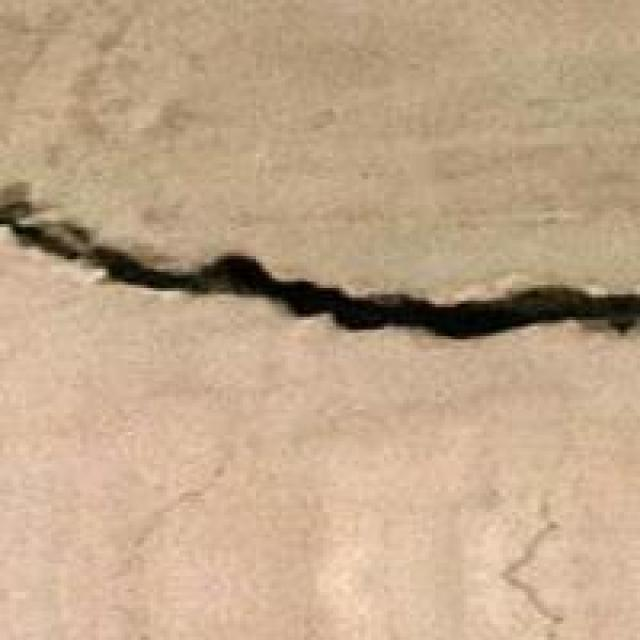Crack: (0, 125, 637, 426)
